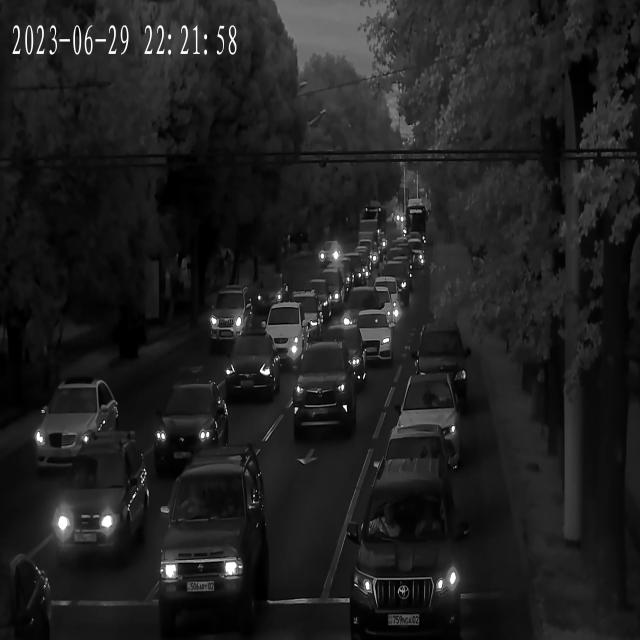Bus: (405, 202, 428, 242)
Car: (354, 478, 456, 637), (161, 460, 272, 599), (55, 434, 149, 559), (36, 385, 122, 475), (389, 374, 467, 472), (153, 385, 231, 466), (286, 341, 351, 431), (367, 427, 453, 491), (220, 333, 280, 398), (6, 553, 49, 638), (308, 329, 366, 389), (408, 355, 468, 411), (260, 301, 314, 363), (337, 312, 395, 367), (339, 286, 400, 337), (208, 292, 257, 348), (277, 292, 328, 338), (360, 276, 406, 314), (299, 280, 340, 320), (374, 264, 413, 304), (326, 260, 365, 296), (394, 244, 424, 271), (356, 237, 382, 268), (384, 247, 410, 272), (318, 245, 340, 266)
